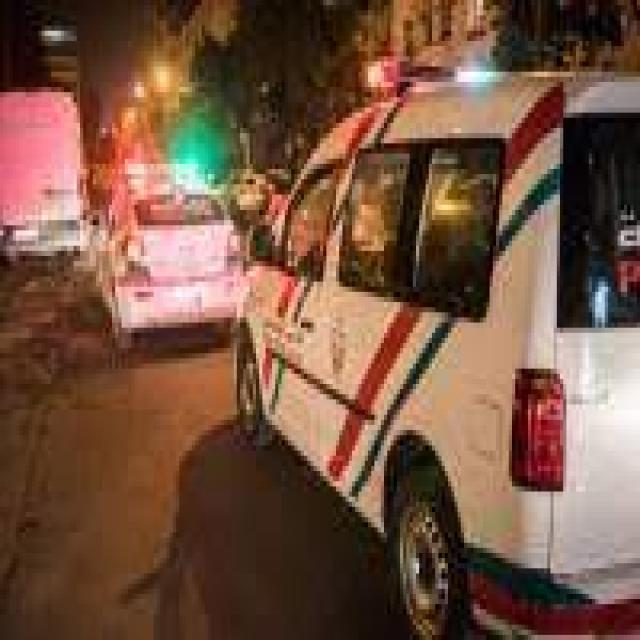Police car: (229, 50, 640, 638)
